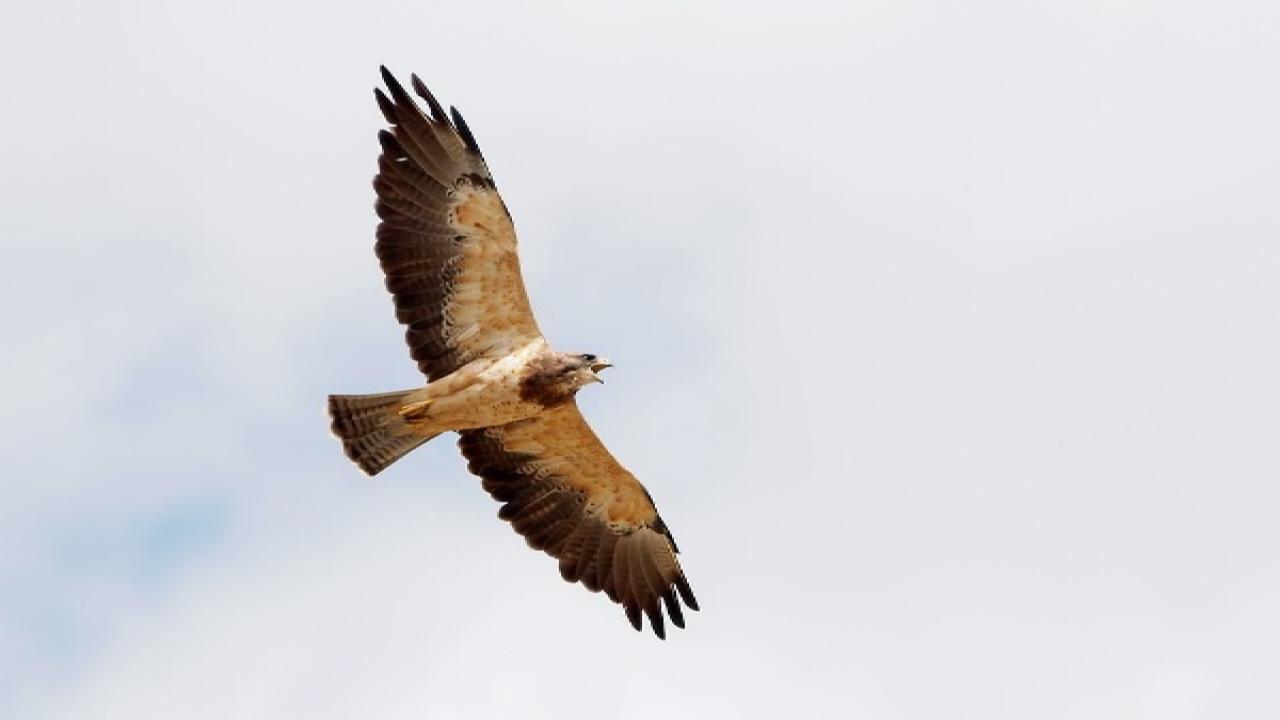Bird: (312, 55, 716, 649)
